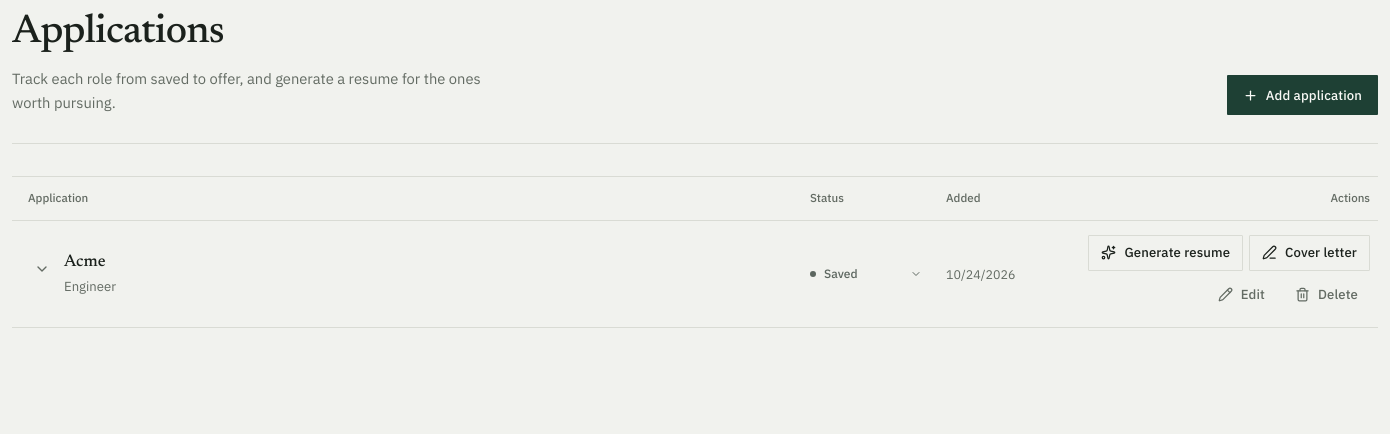
Test: ApplicationsPage › expands and collapses the job description
Expected: the heading "Applications" is shown, [12,13,224,53]
Click the button named "View description for Engineer at Acme". click: point(42, 269)
box: [24,251,60,287]
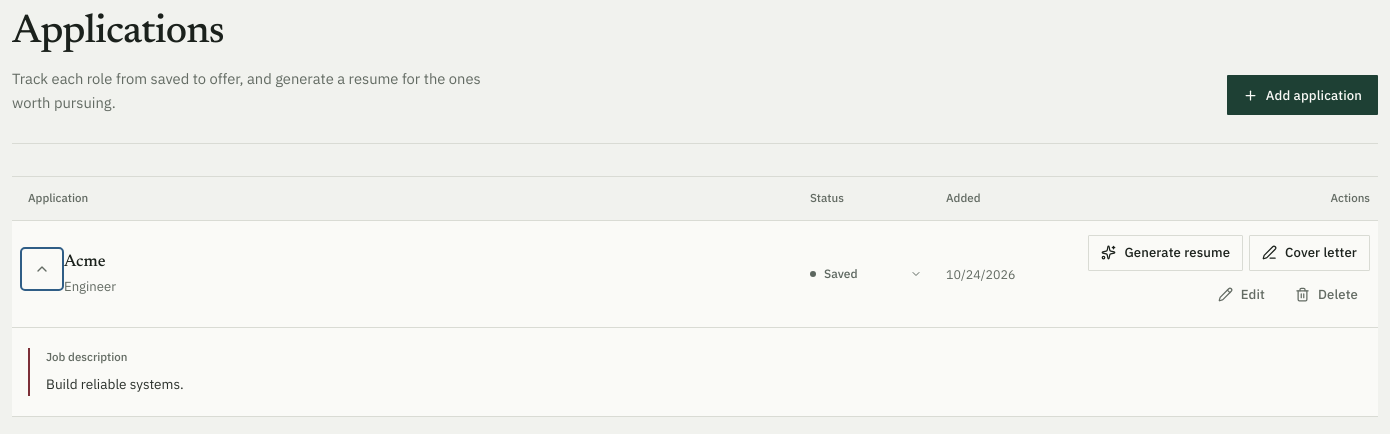
Result: the button named "View description for Engineer at Acme" is expanded
Click the button named "View description for Engineer at Acme". click: point(42, 269)
box: [24,251,60,287]
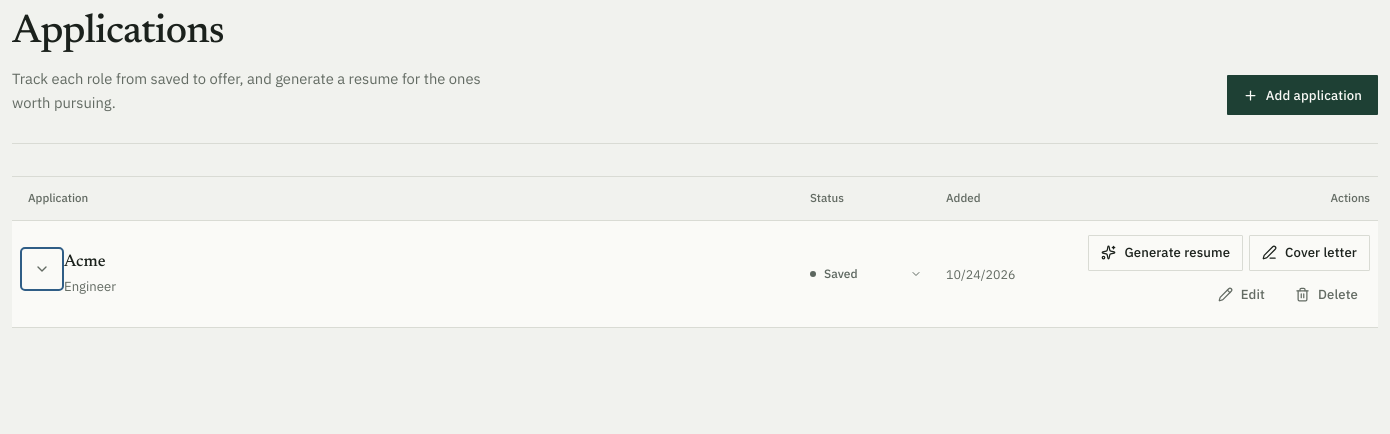
Result: the button named "View description for Engineer at Acme" is collapsed at [24,251,60,287]
